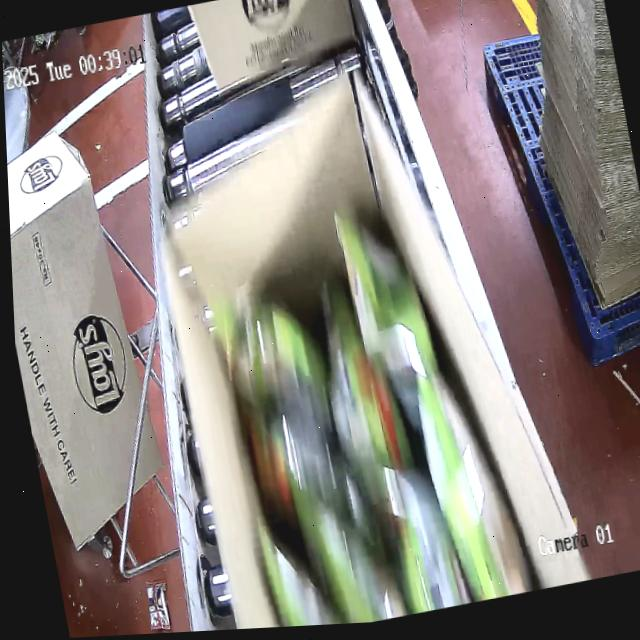YOGURT_HERB: (199, 215, 506, 630)
